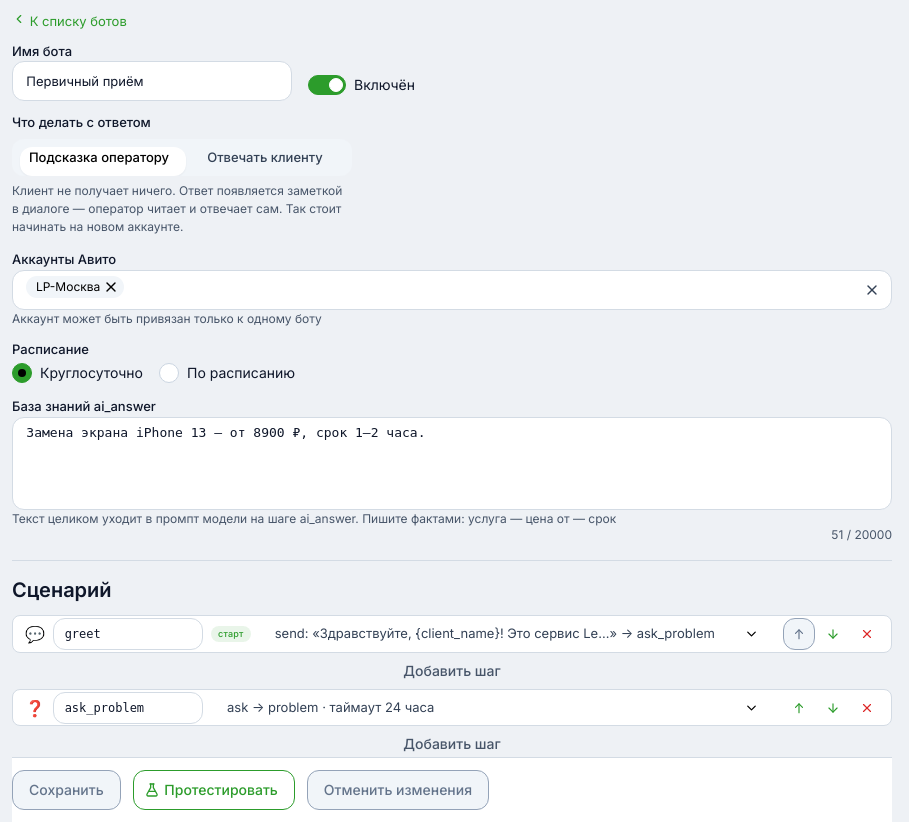
Scenario: Редактор бота — переименование шага › пустой идентификатор тоже объясняется, а не гасится
Clear the field named "Идентификатор шага greet": (128, 634) left=53, top=618, right=203, bottom=650
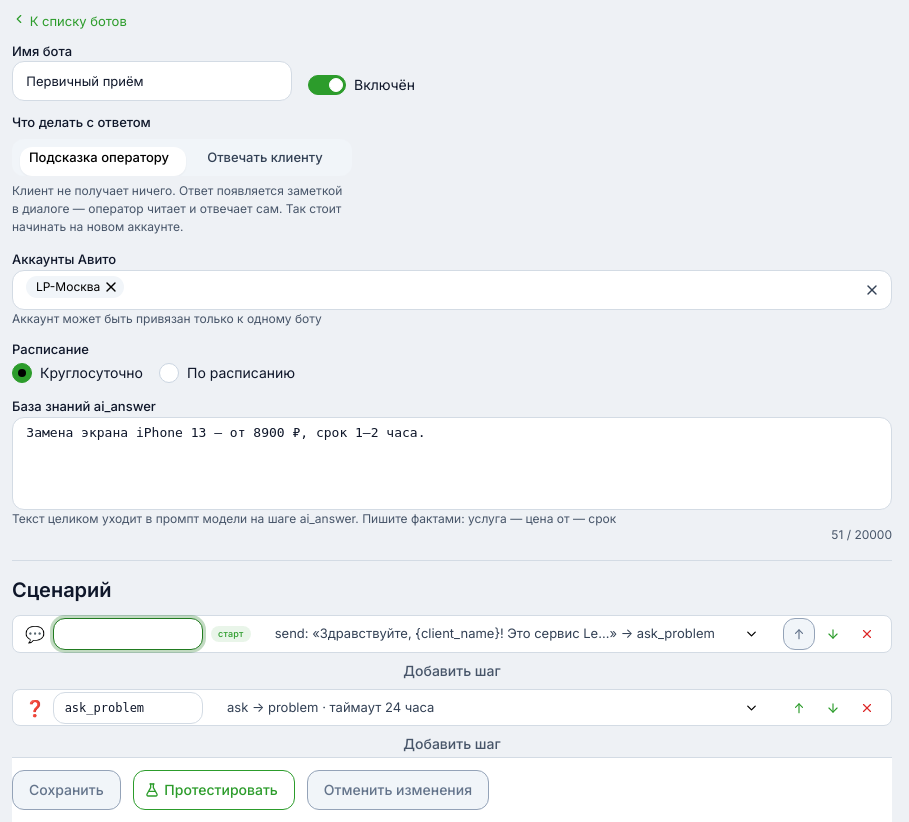
Press Tab
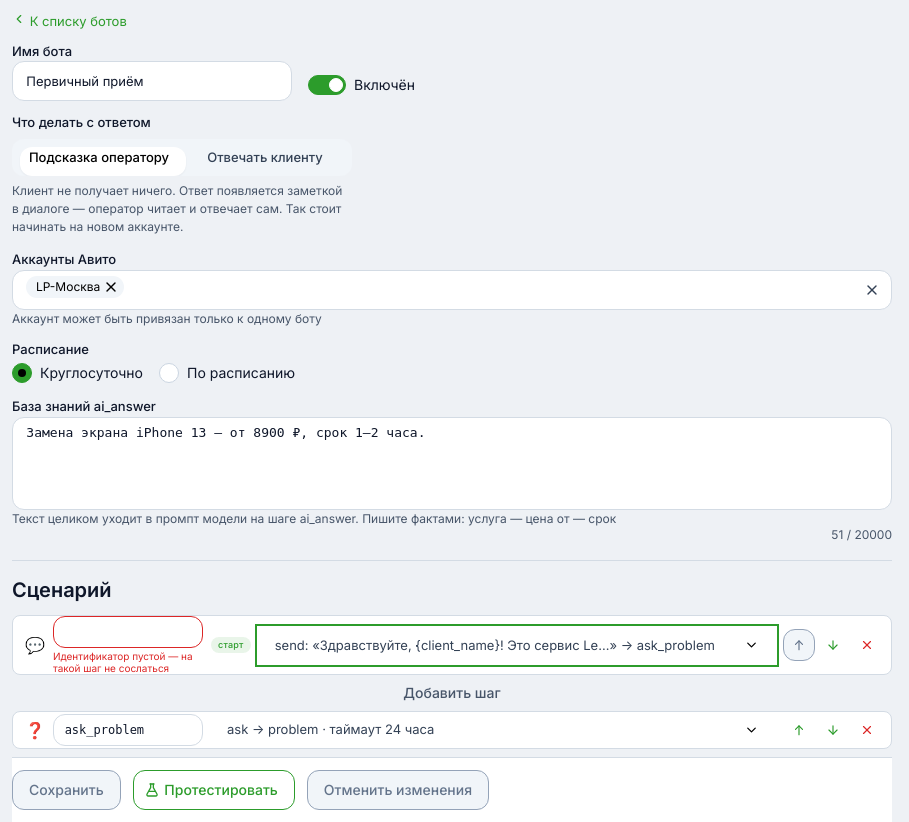
Result: the text "Идентификатор пустой — на такой шаг не сослаться" is shown at left=53, top=650, right=203, bottom=674
